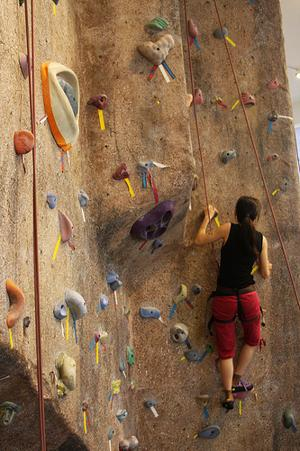person: (195, 194, 272, 411)
